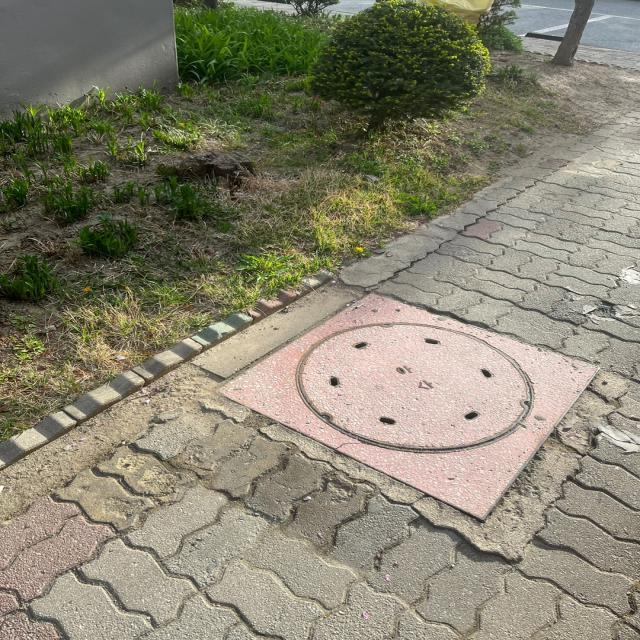Sewer Cover: (205, 264, 609, 522)
